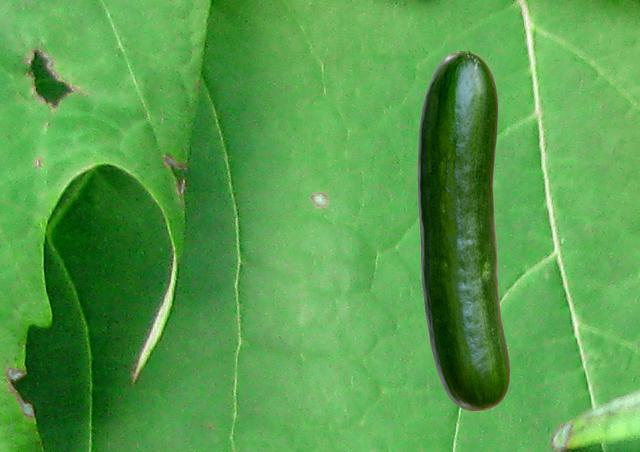cucumber: (417, 51, 509, 410)
